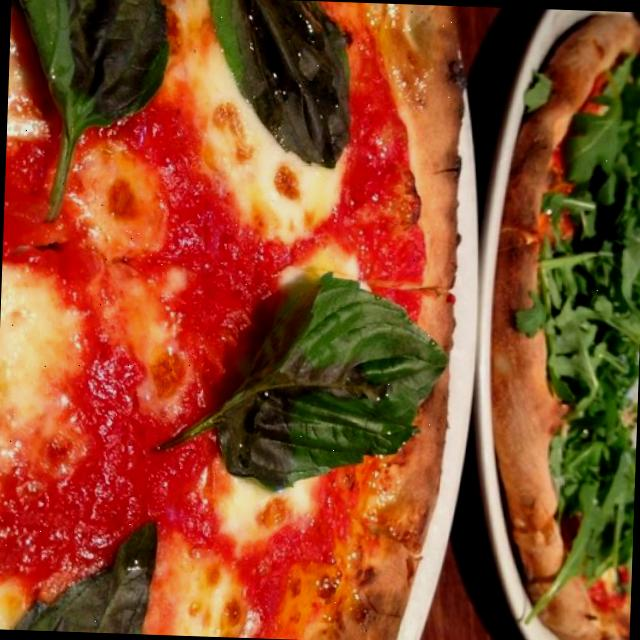basil: (198, 279, 452, 486), (551, 87, 640, 569), (205, 0, 361, 165), (8, 0, 175, 134), (3, 514, 164, 634)
pizza: (493, 15, 640, 640)
